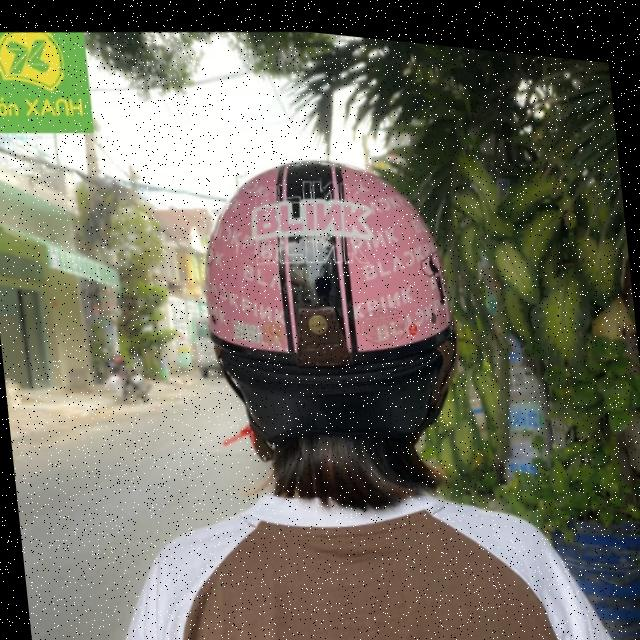helmet: (182, 122, 470, 466)
